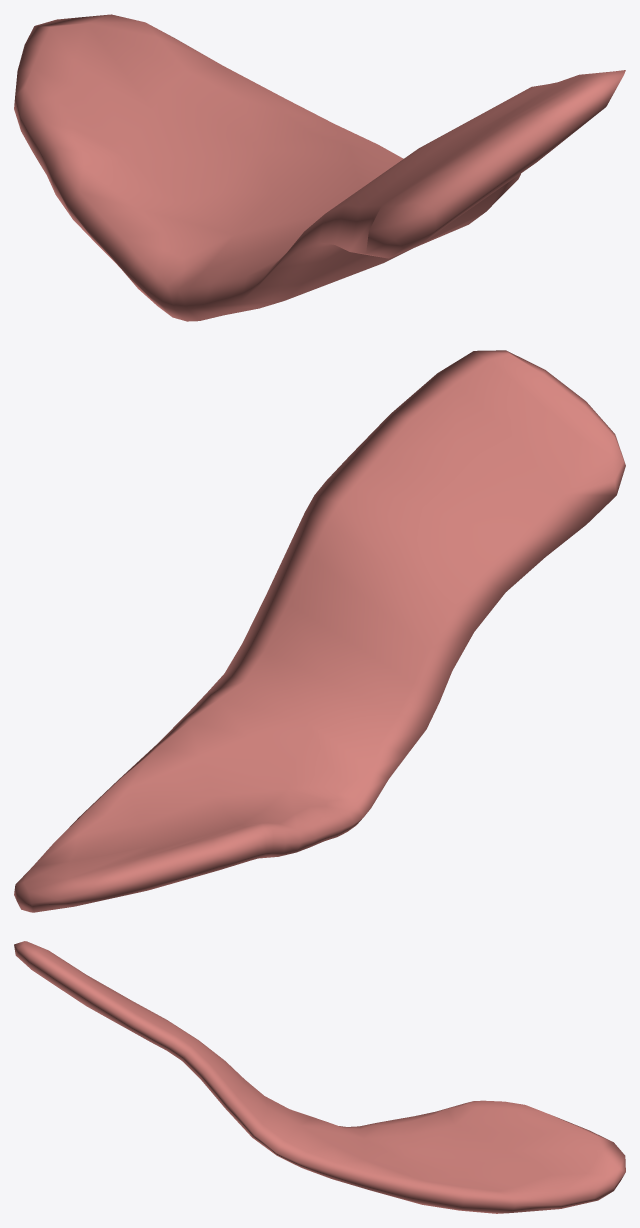
The picture shows the model from 3 angles, top to bottom: view 1: azimuth 30°, elevation 25°; view 2: azimuth 150°, elevation 25°; view 3: azimuth 270°, elevation 25°; orthographic projection. The views are drawn at different scales.
Parts seen in each view (by area): view 1: ZA_fff1e53165519743; view 2: ZA_fff1e53165519743; view 3: ZA_fff1e53165519743.
Boxes of the visible parts, x1,y1,x2,y2 form: ZA_fff1e53165519743: (14,14,625,321); ZA_fff1e53165519743: (14,350,625,912); ZA_fff1e53165519743: (14,941,625,1213).
Bounding box in the file's own units: 0.00422 × 0.00472 × 0.0115.
